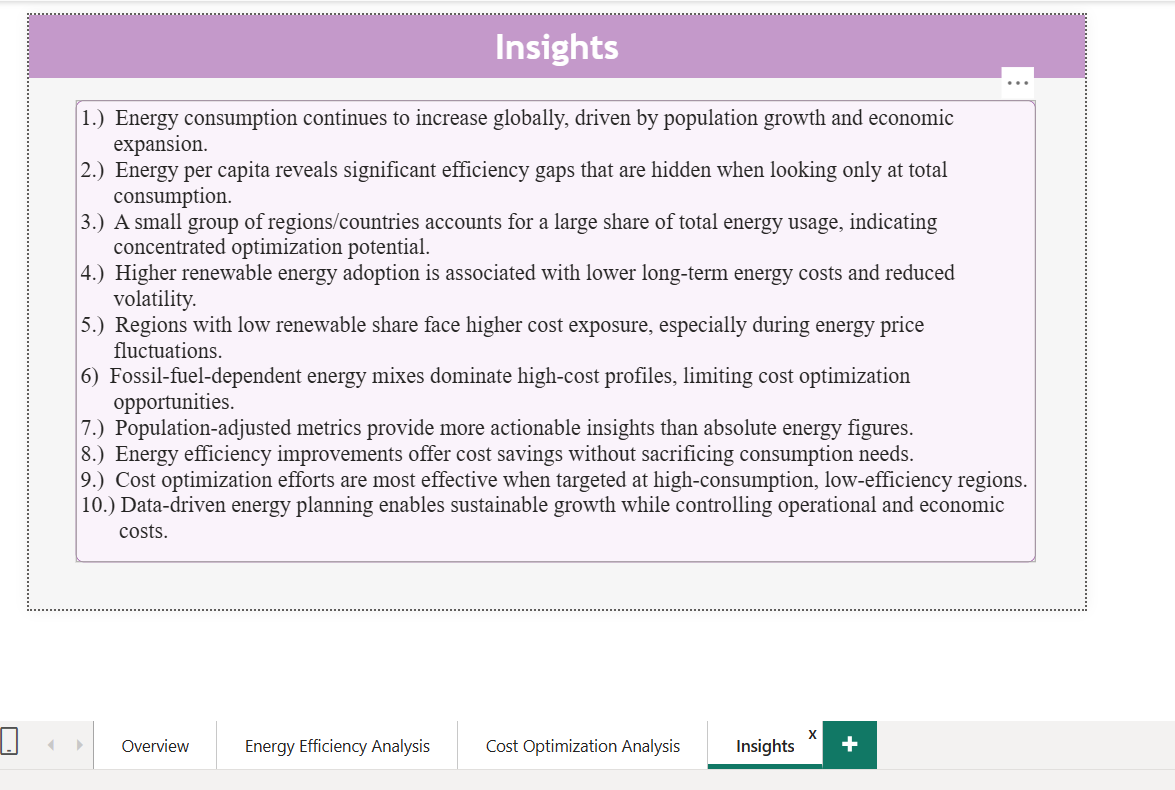

What the dashboard file says about the page in this screenshot:
{"tool":"powerbi","page":{"name":"Insights","canvas":[1280,720],"ordinal":3},"visuals":[{"type":"textbox","box":[0,0,1280,76],"z":0},{"type":"textbox","box":[56.7,103.3,1163.3,560],"z":1000}]}

Visuals, with their boxes on the page's 1280x720 design canvas (x1, y1, x2, y2). These are canvas units, not pixel positions in the 1175x790 screenshot, which may show the page scaled, cropped or inside an application window:
textbox: (left=0, top=0, right=1280, bottom=76)
textbox: (left=57, top=103, right=1220, bottom=663)
